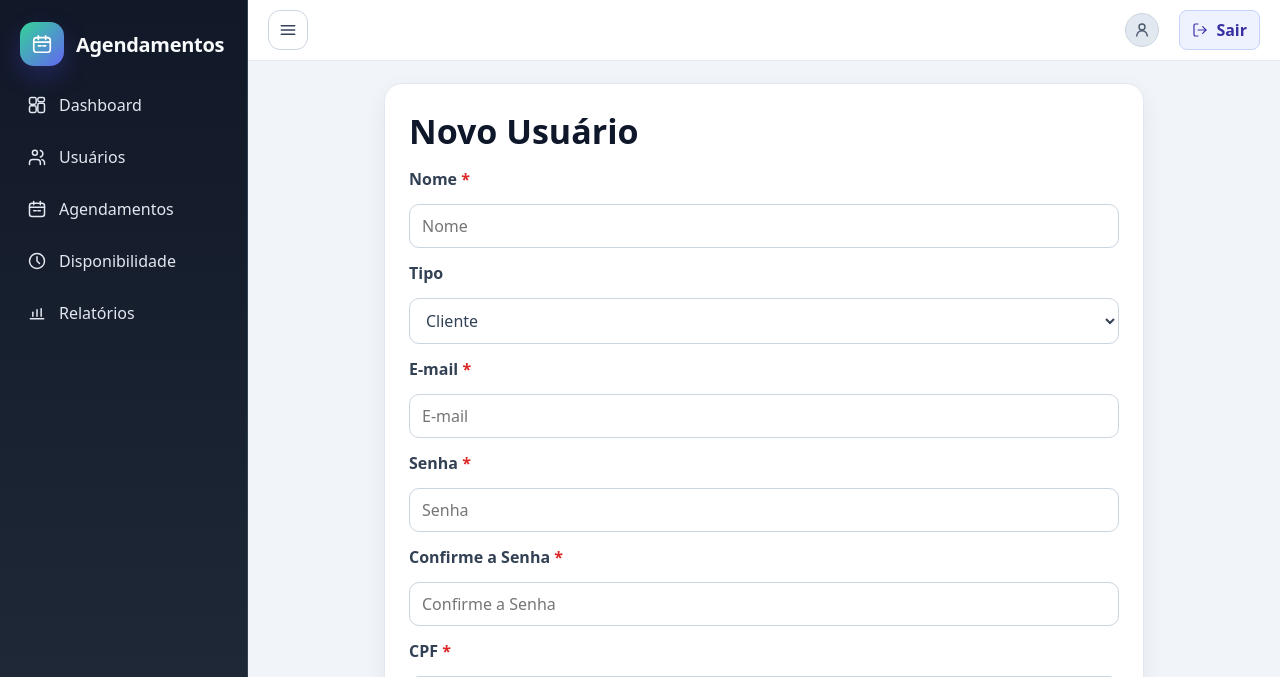
Test case: UsuarioForm › valida senha com menos de 8 caracteres
Type "Fulano" into the field with placeholder "Nome". click: (764, 226)
box: [409,204,1119,248]
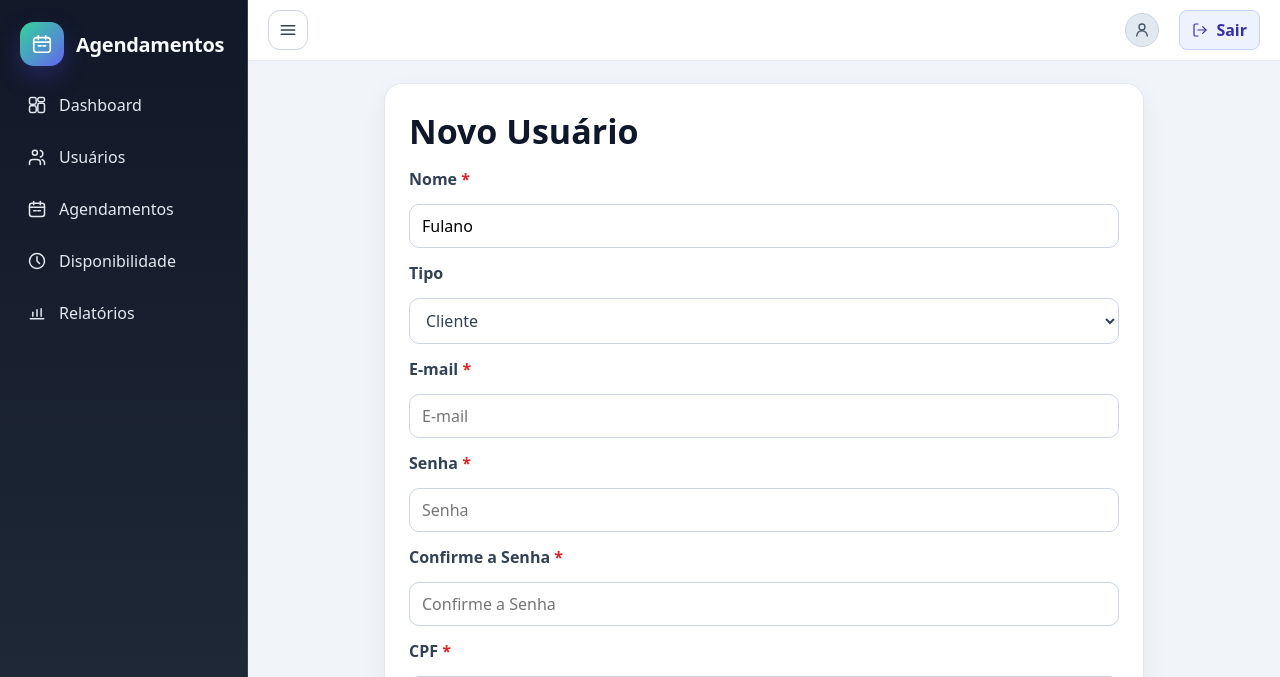
Type "fulano@email.com" into the field with placeholder "E-mail". click: (764, 416)
box: [409,394,1119,438]
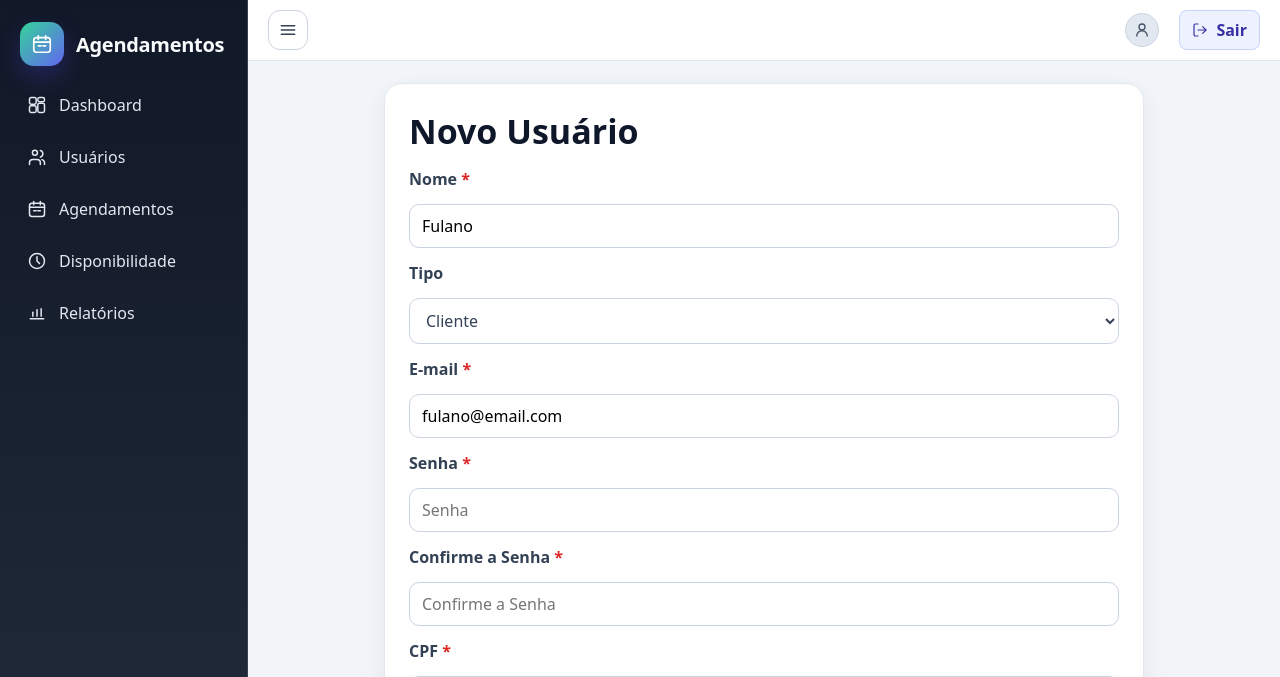
Type "1234567" into the password field with placeholder "Senha". click: (764, 510)
box: [409,488,1119,532]
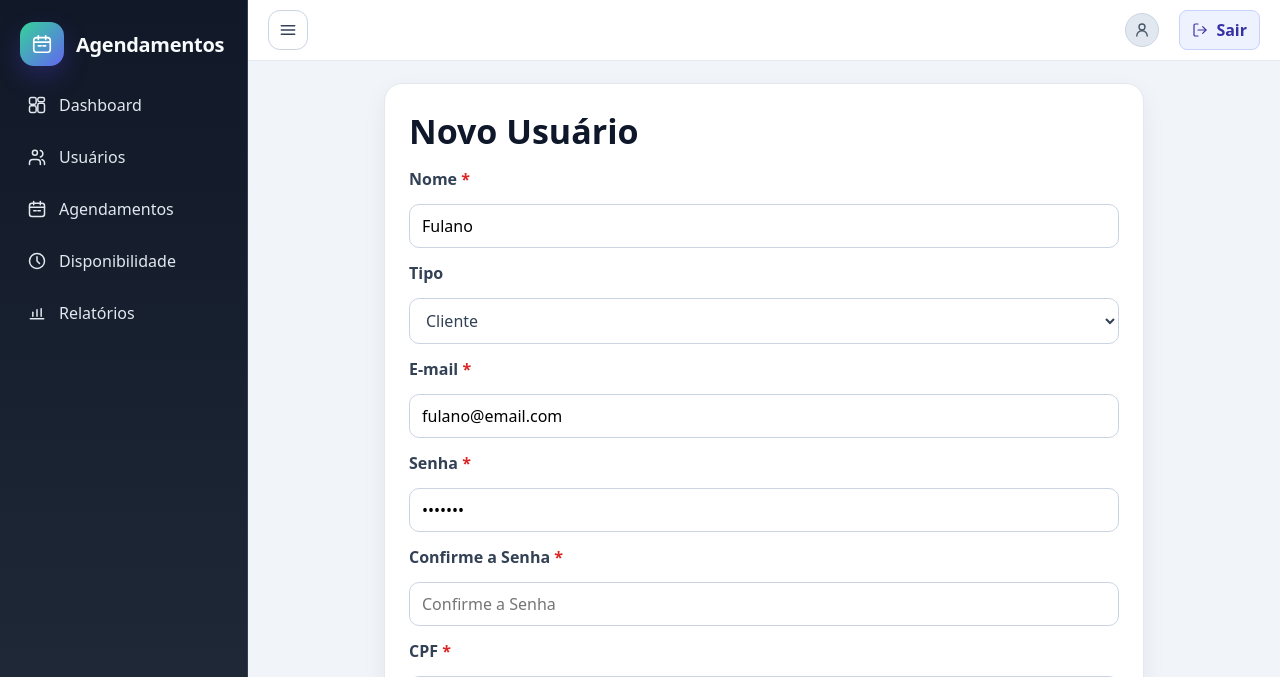
Type "1234567" into the password field with placeholder "Confirme a Senha". click: (764, 604)
box: [409,582,1119,626]
(page scrolled)
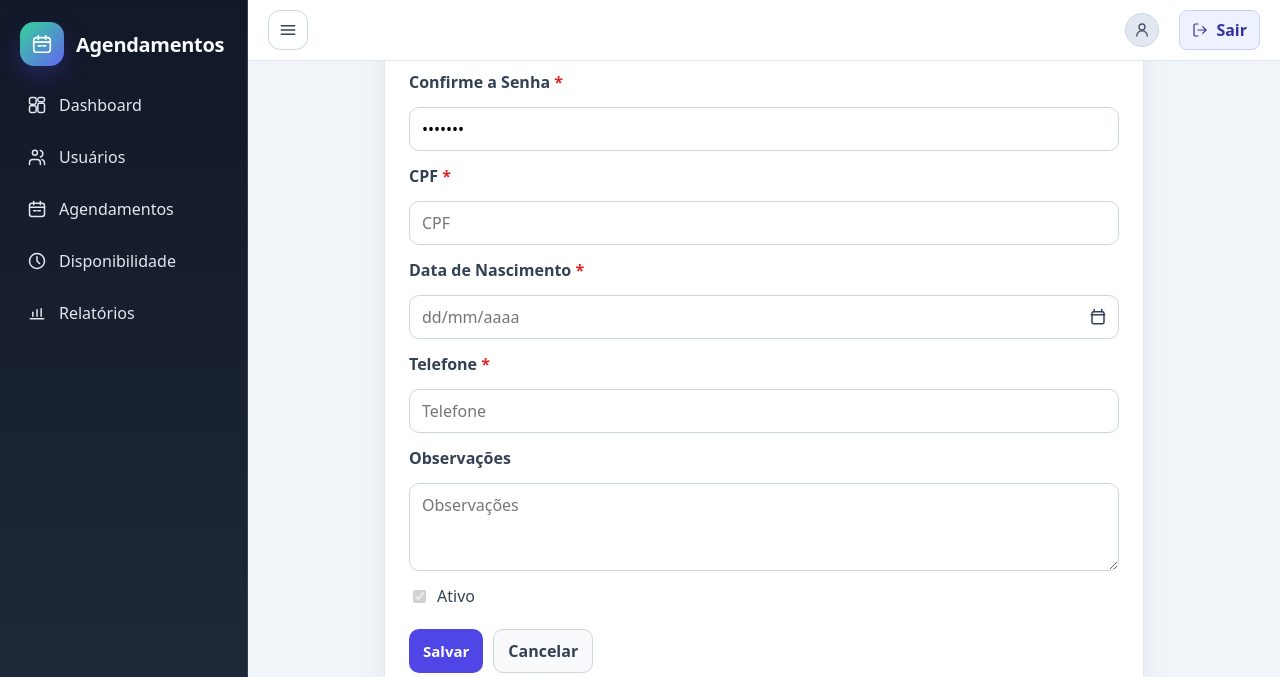
Click the button "Salvar". click: (446, 651)
box: [409,629,483,673]
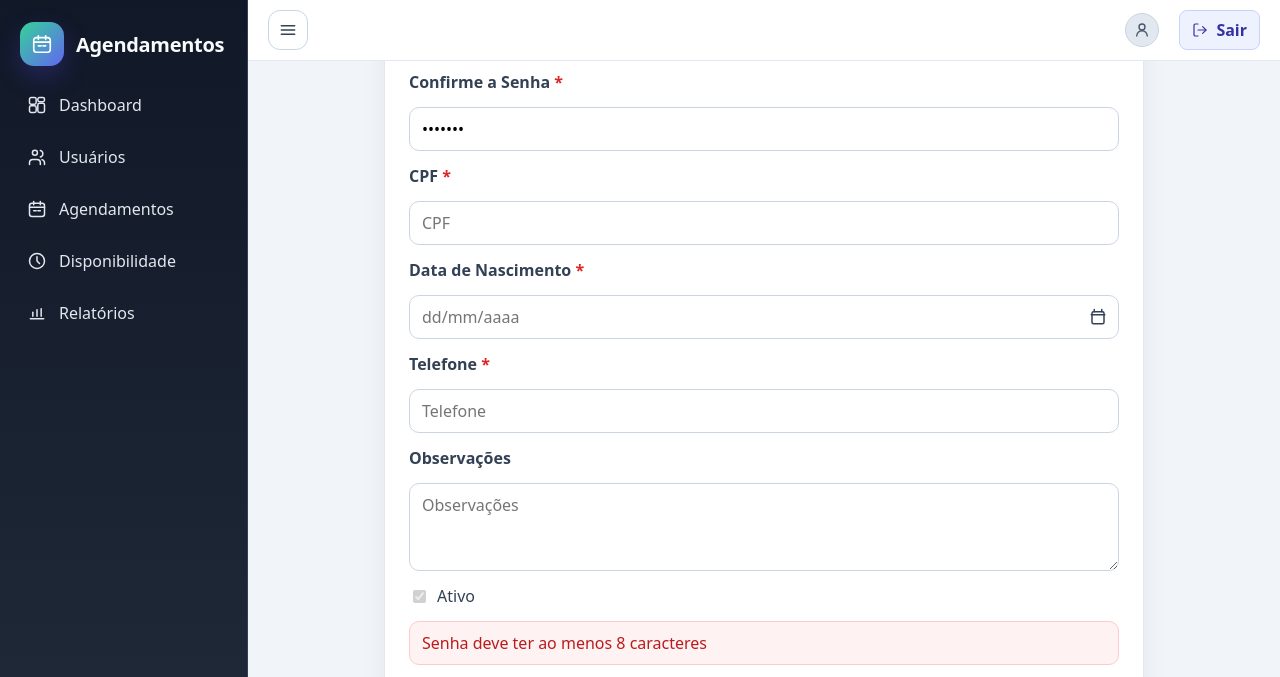
Expected: the text with test id "form-error" reads "Senha deve ter ao menos 8 caracteres", [422,632,707,654]
